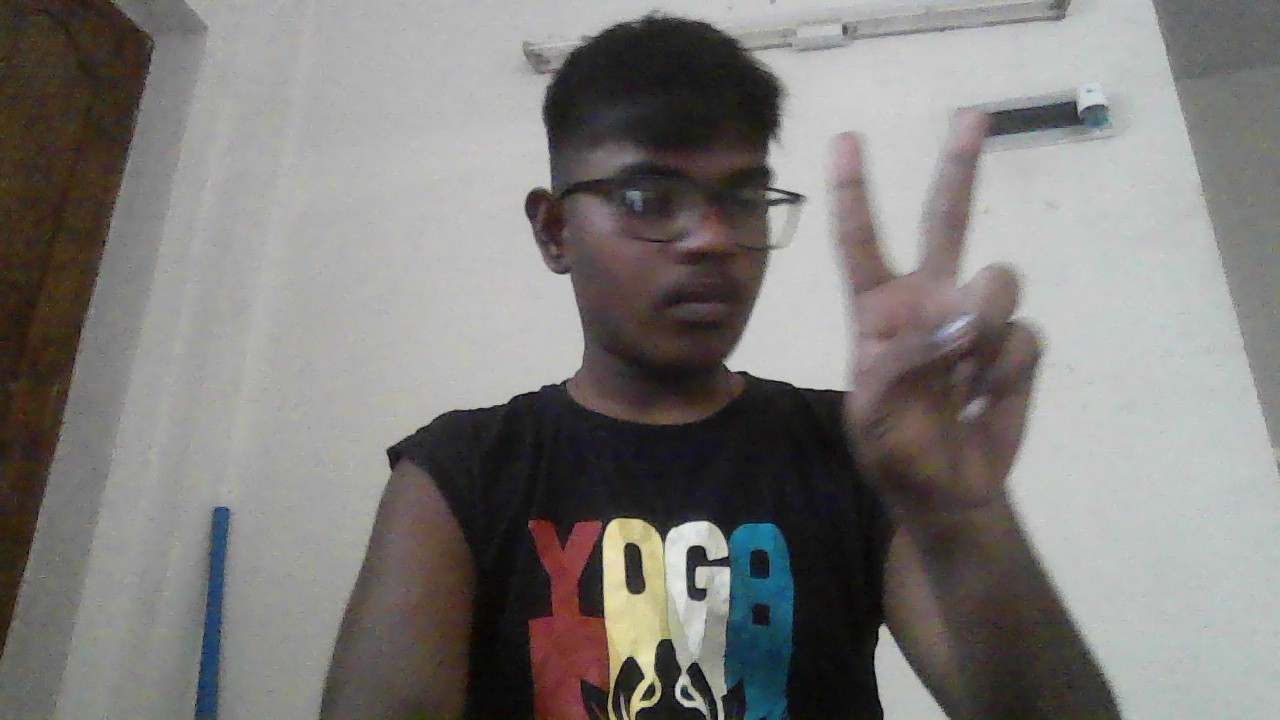V: (832, 107, 1045, 505)
